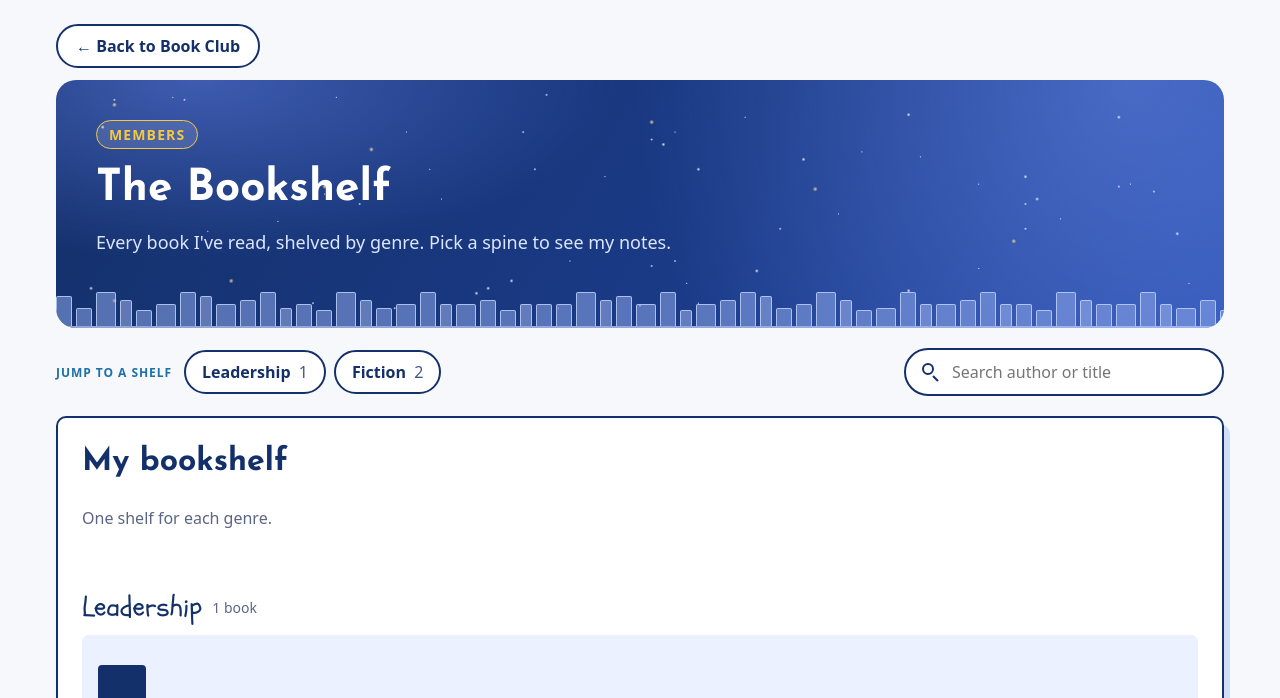
Test case: the bookshelf page › keeps only matching books when searching by author, and says so when nothing matches
Type "meyer" into the search field named "Search by author or title" at point(1064, 372), box [904, 348, 1224, 396]
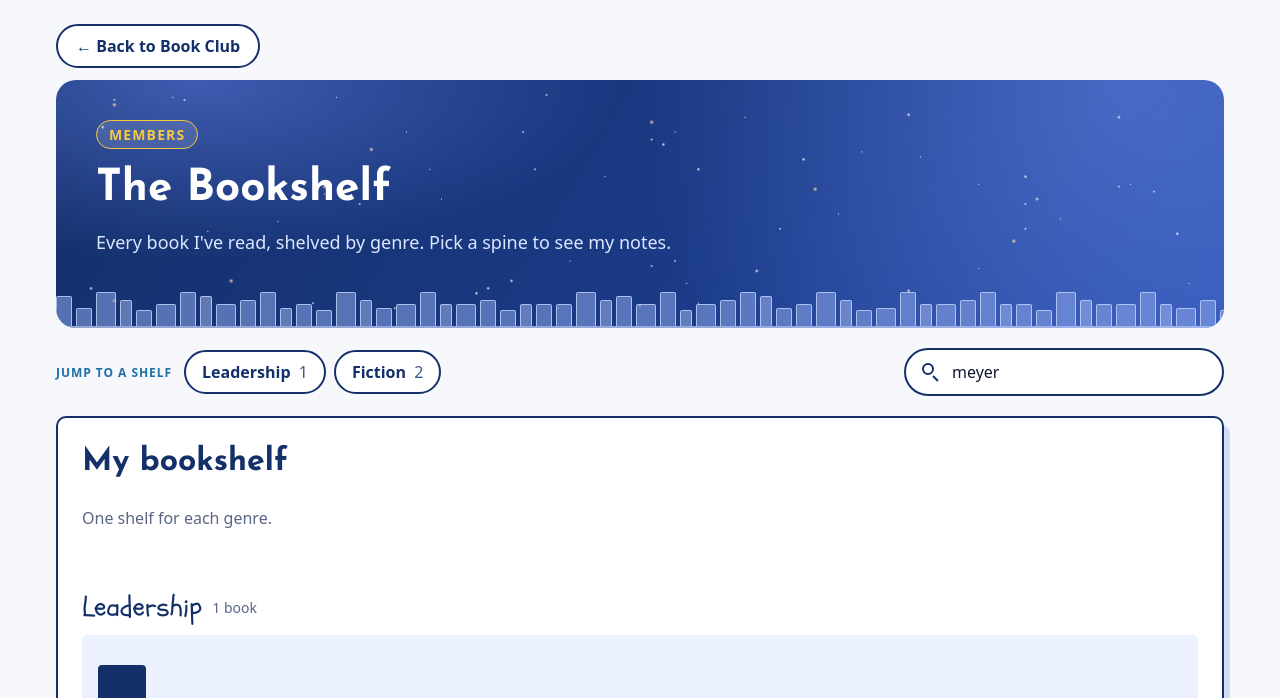
Replace the text in the search field with "zzz" at point(1064, 372), box [904, 348, 1224, 396]
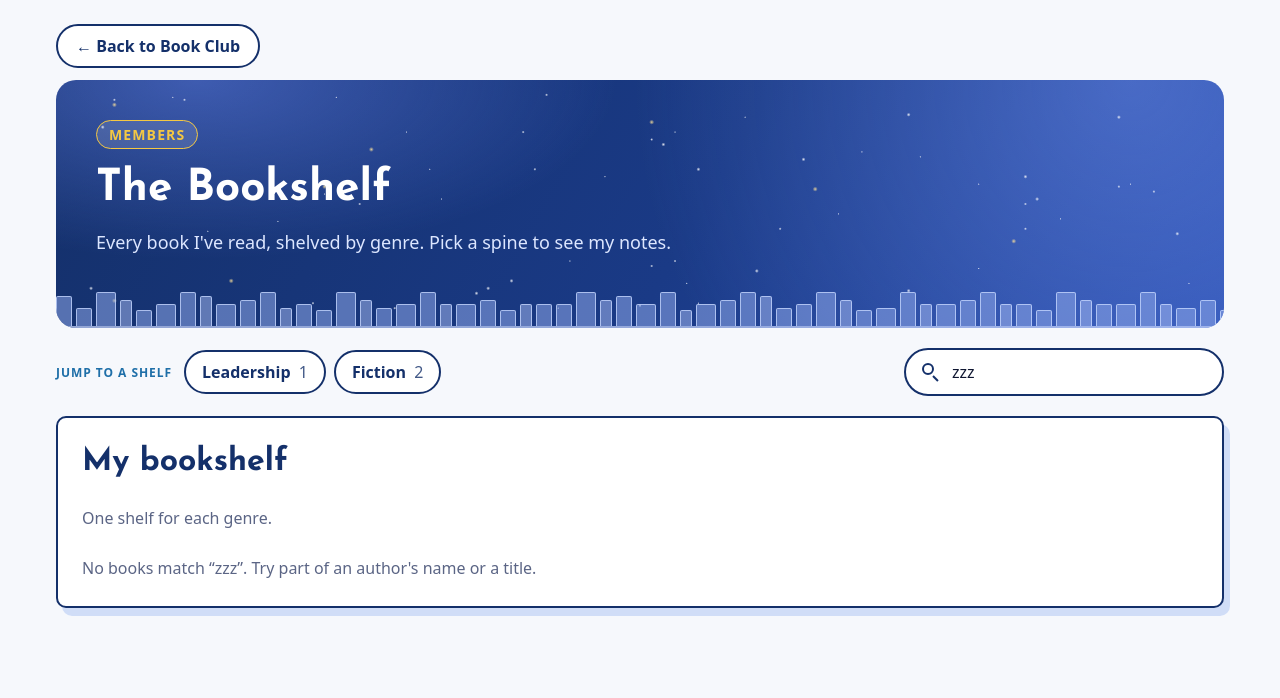
Expected: the message shows "No books match", [82, 557, 215, 579]
